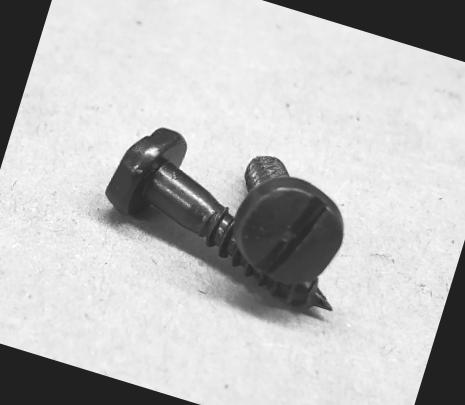screw: (222, 165, 354, 300)
